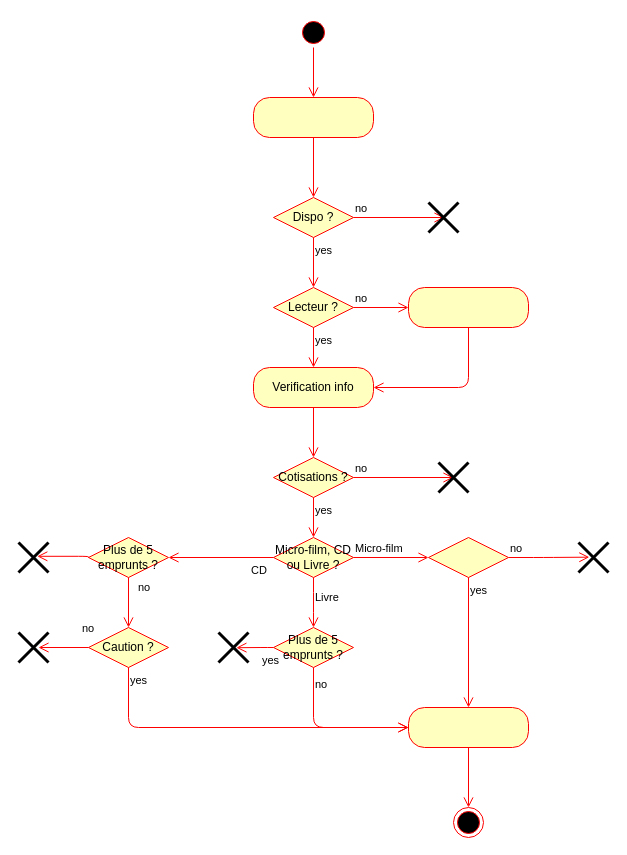
This 627x855 diagram has some shape labels left out. Here are the shapes that lost their labels. From the top down, the centre of each, then its label:
At (313,117): "Consultation de la liste des documents".
At (468,307): "Création d'un compte lecteur".
At (468,557): "Ecran de lecture dispo ?".
At (468,727): "Enregistrement de l'emprunt".
